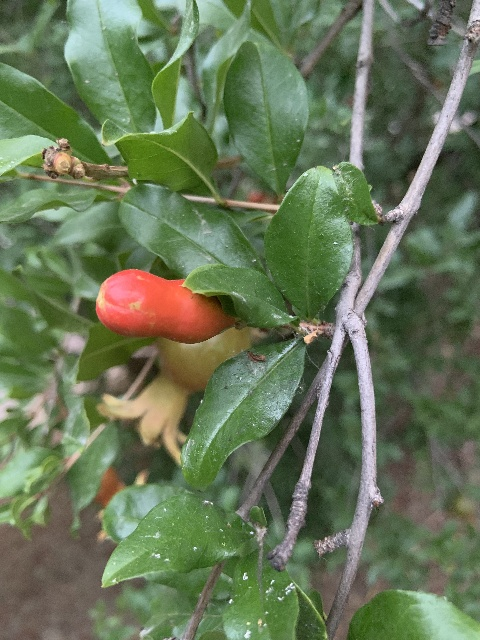bud: (95, 270, 236, 344)
mid-growth: (95, 325, 251, 466)
